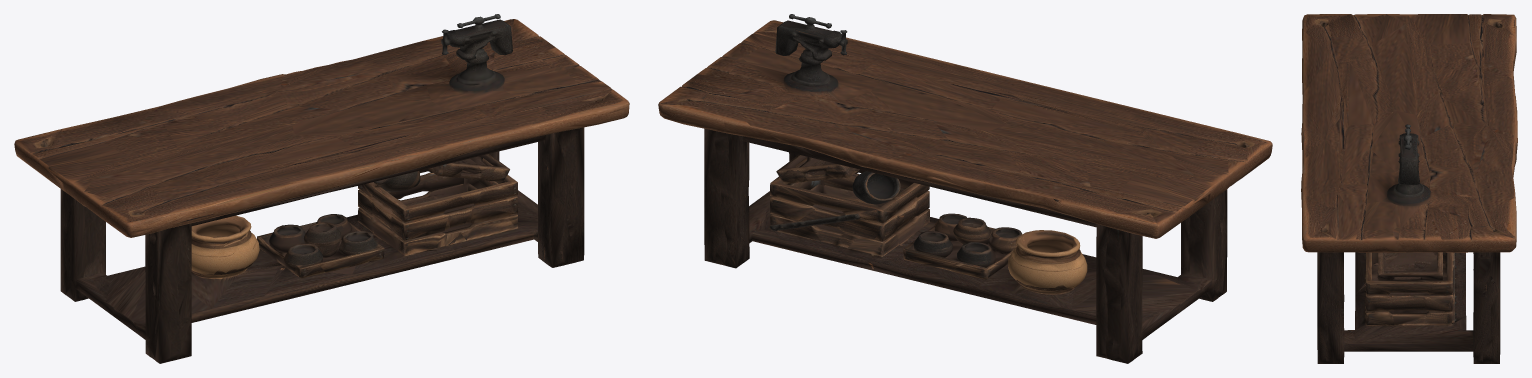
Rendered from workbench.glb.
3 views of the same model, side by side, from view 1: azimuth 30°, elevation 25°; view 2: azimuth 150°, elevation 25°; view 3: azimuth 270°, elevation 25° (orthographic). The views are drawn at different scales.
Visible parts, largest first — view 1: workbench; view 2: workbench; view 3: workbench.
Boxes of the visible parts, x1,y1,x2,y2 form: workbench: (14, 14, 629, 363); workbench: (658, 14, 1272, 363); workbench: (1301, 14, 1517, 363).
Bounding box in the file's own units: 2.15 × 0.8992 × 0.8704.
1 material, 1 textured.
